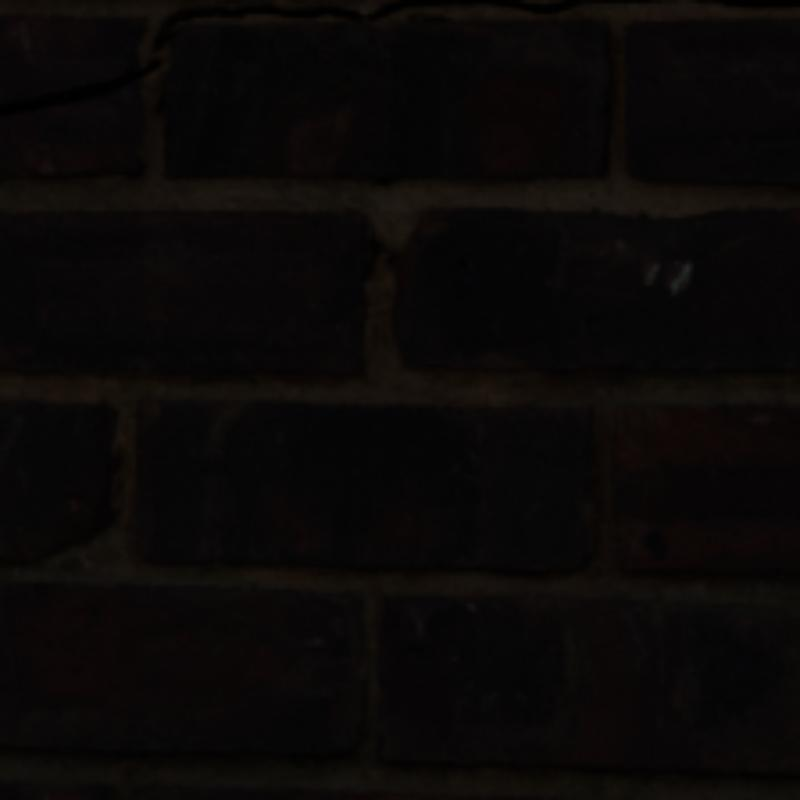pothole: (0, 0, 493, 114), (493, 0, 579, 11)
